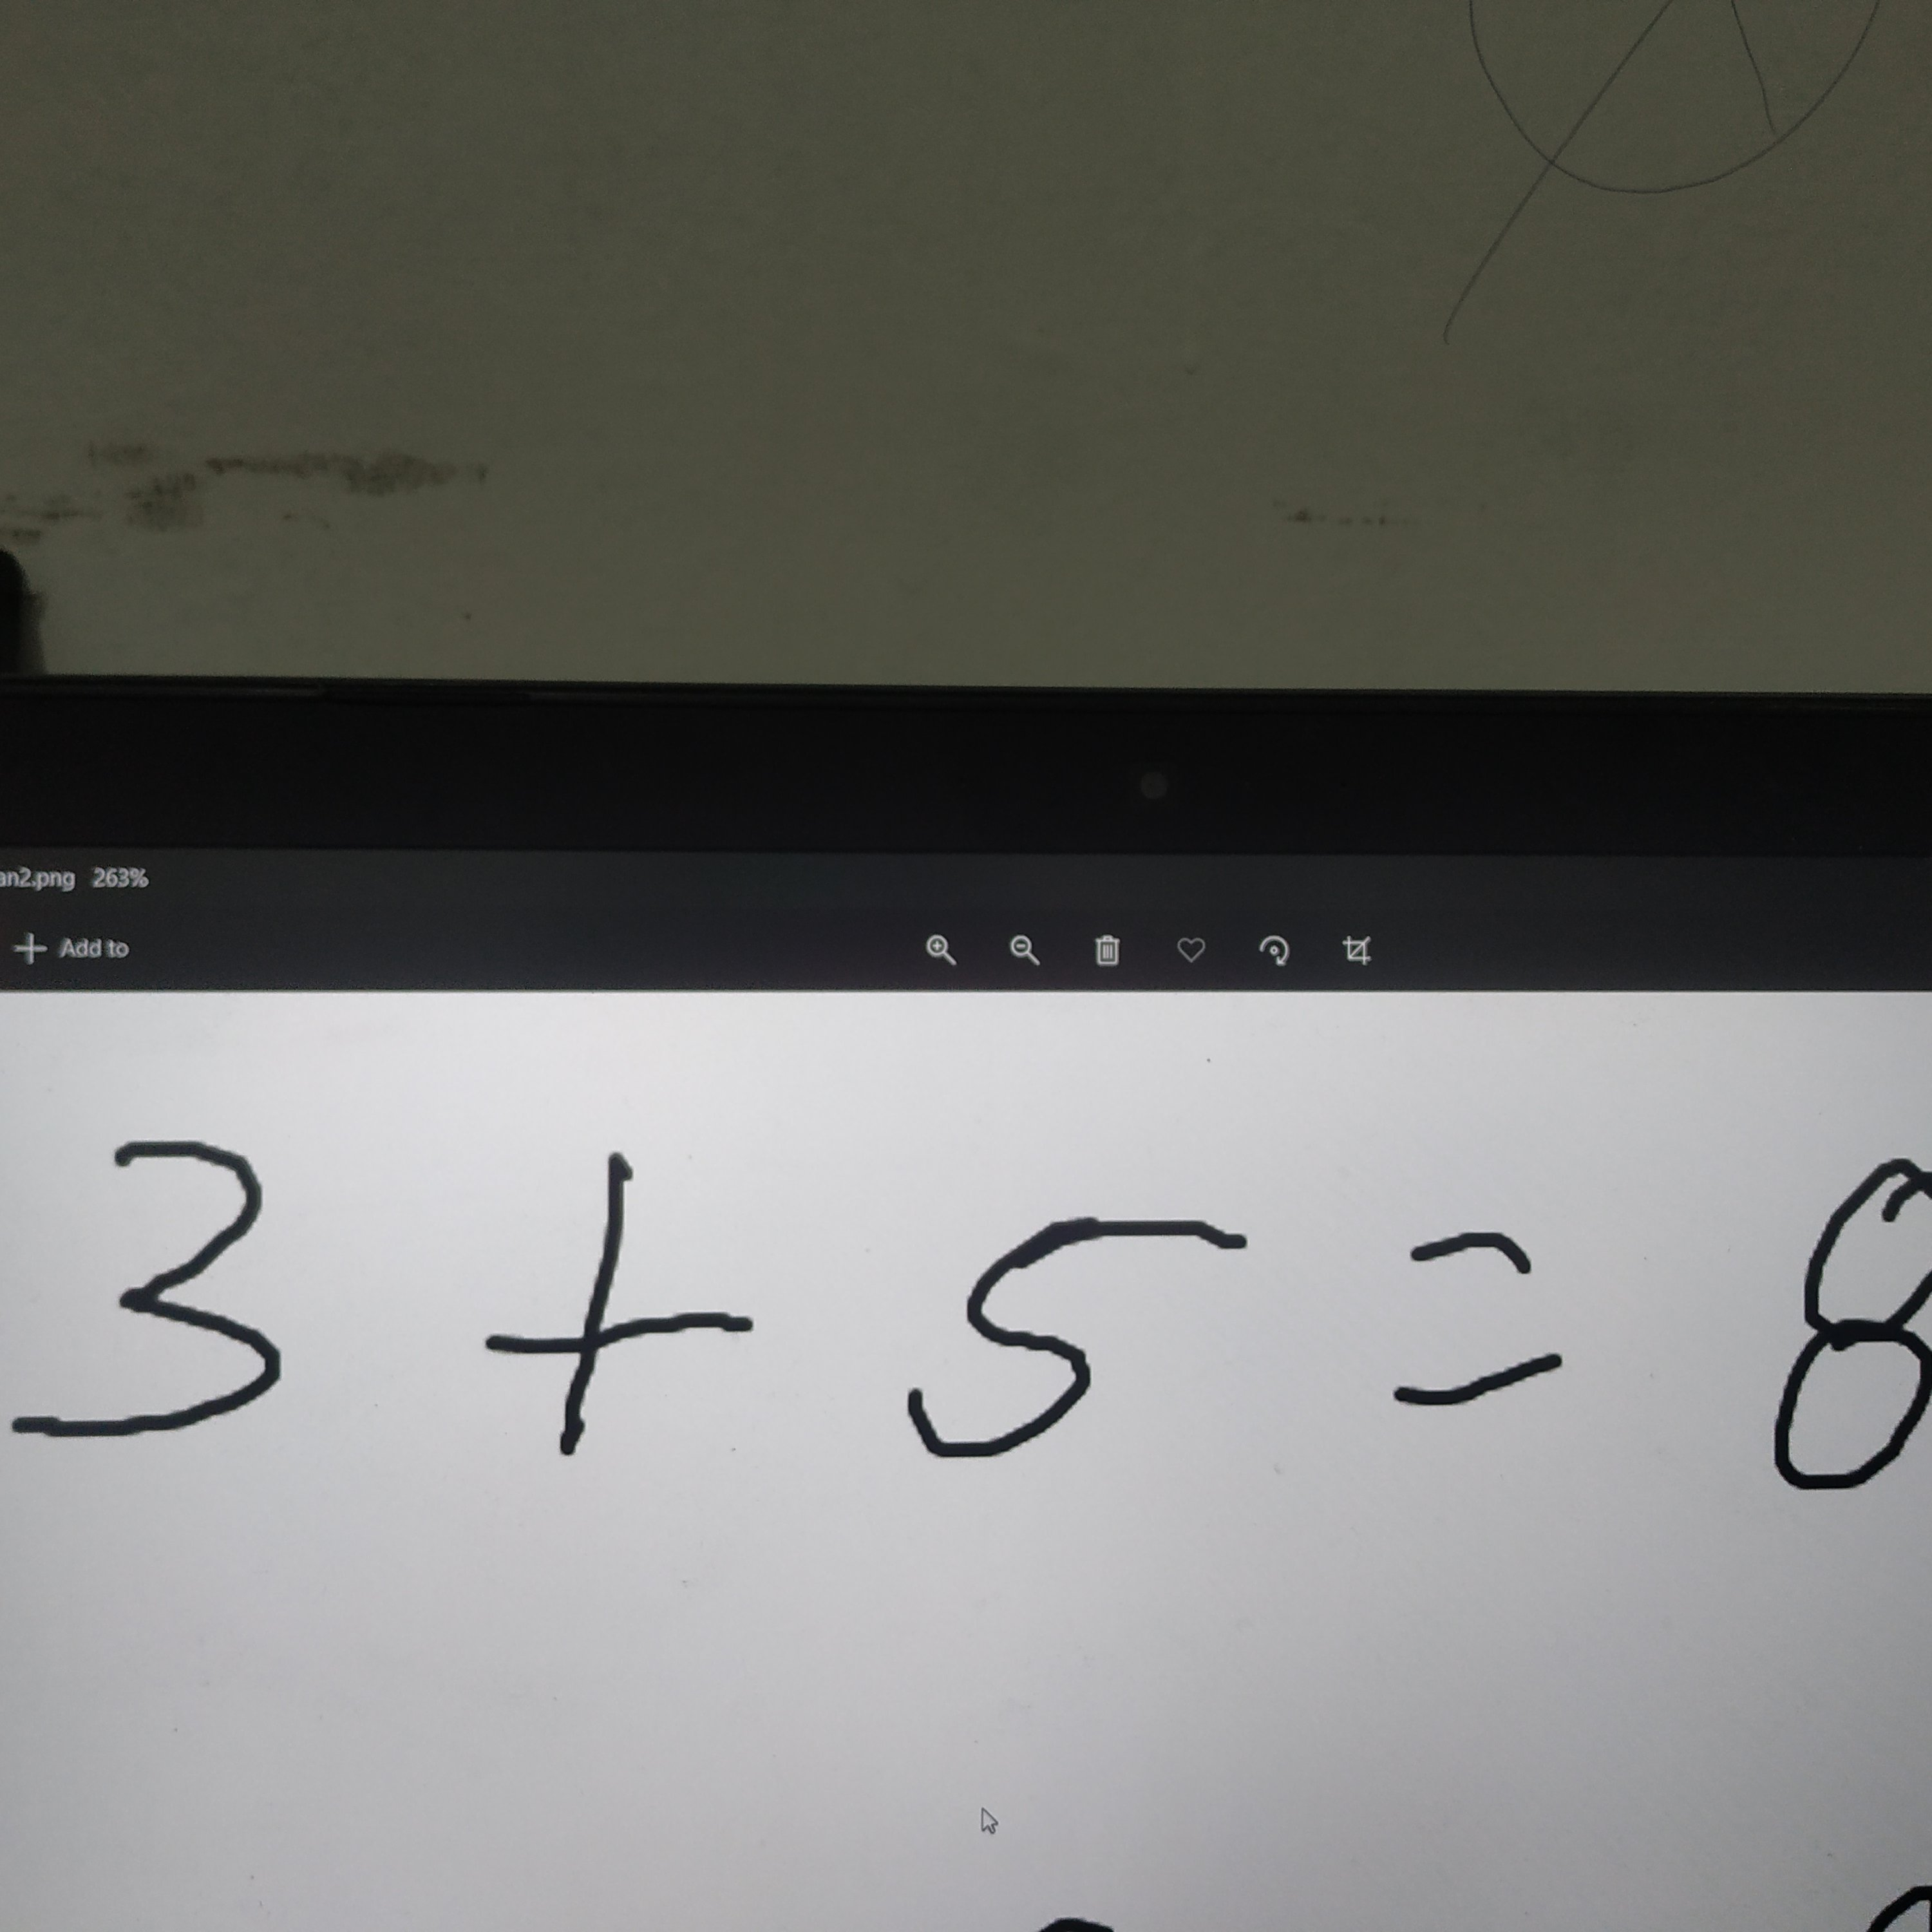equal: (1347, 1209, 1623, 1437)
num3: (11, 1132, 337, 1454)
num5: (887, 1195, 1272, 1471)
num8: (1754, 1141, 1932, 1509)
sum: (484, 1128, 769, 1466)
